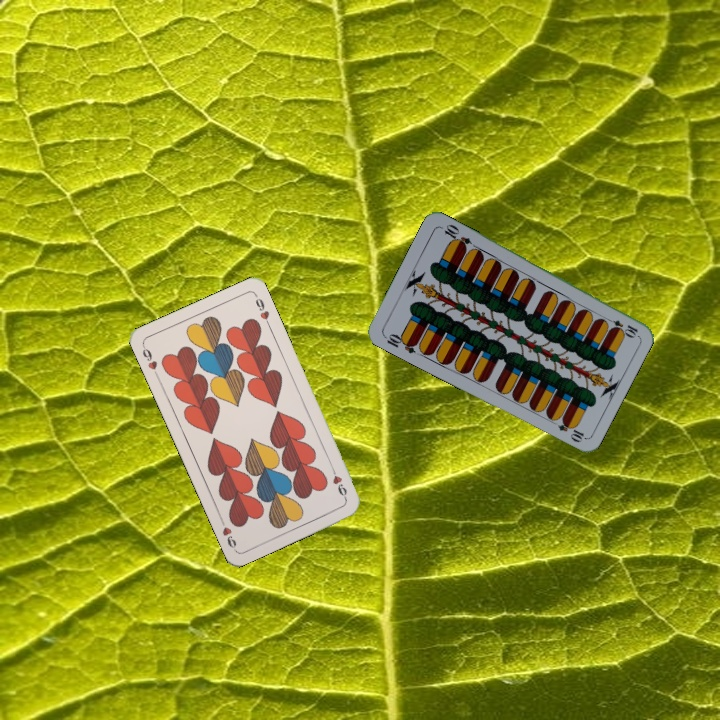E10: (380, 329, 420, 356), (601, 314, 640, 339)
H9: (138, 341, 161, 380), (327, 463, 350, 502)
